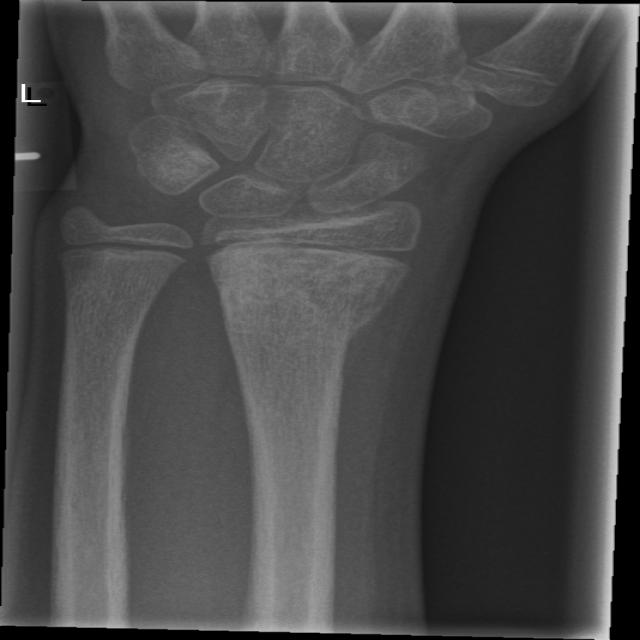radius fracture: (327, 251, 421, 397)
